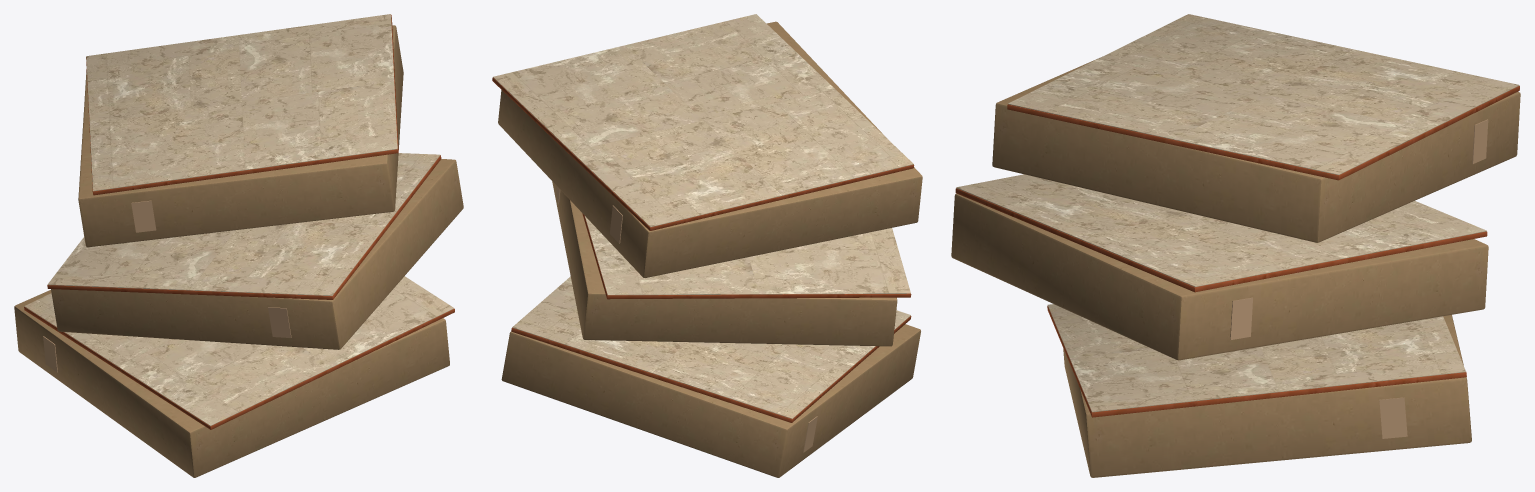
File: PIS-CER-001_anim.glb
The picture shows the model from 3 angles, left to right: view 1: azimuth 30°, elevation 25°; view 2: azimuth 150°, elevation 25°; view 3: azimuth 270°, elevation 25°; orthographic projection. The views are drawn at different scales.
Parts seen in each view (by area): view 1: PIS-CER-001_anim2, PIS-CER-001_anim1, PIS-CER-001_anim0; view 2: PIS-CER-001_anim2, PIS-CER-001_anim0, PIS-CER-001_anim1; view 3: PIS-CER-001_anim2, PIS-CER-001_anim1, PIS-CER-001_anim0.
Boxes of the visible parts, x1,y1,x2,y2 form: PIS-CER-001_anim2: (78, 14, 403, 247); PIS-CER-001_anim1: (47, 153, 463, 349); PIS-CER-001_anim0: (14, 276, 454, 477); PIS-CER-001_anim2: (492, 14, 922, 277); PIS-CER-001_anim0: (501, 276, 920, 477); PIS-CER-001_anim1: (552, 181, 911, 346); PIS-CER-001_anim2: (992, 14, 1520, 242); PIS-CER-001_anim1: (951, 174, 1488, 360); PIS-CER-001_anim0: (1047, 304, 1471, 477).
Bounding box in the file's own units: 0.6532 × 0.4955 × 0.6764.
6 materials, 4 textured.
